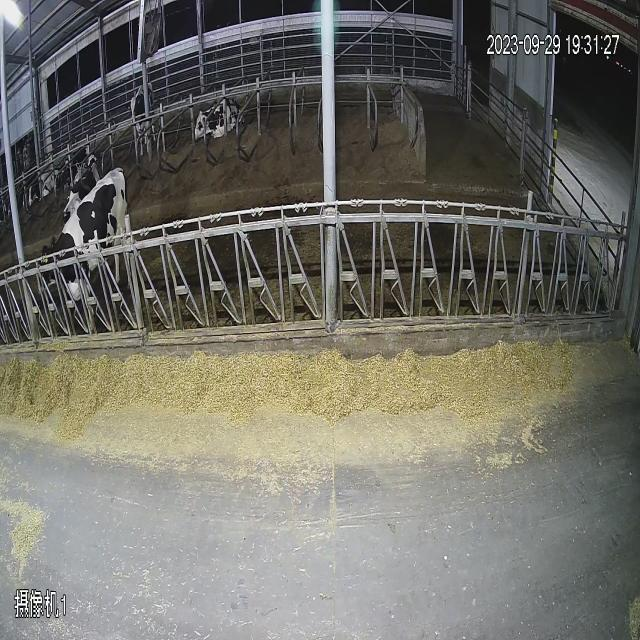lying down: (188, 92, 252, 146)
standing: (36, 159, 130, 345), (126, 74, 158, 170)
